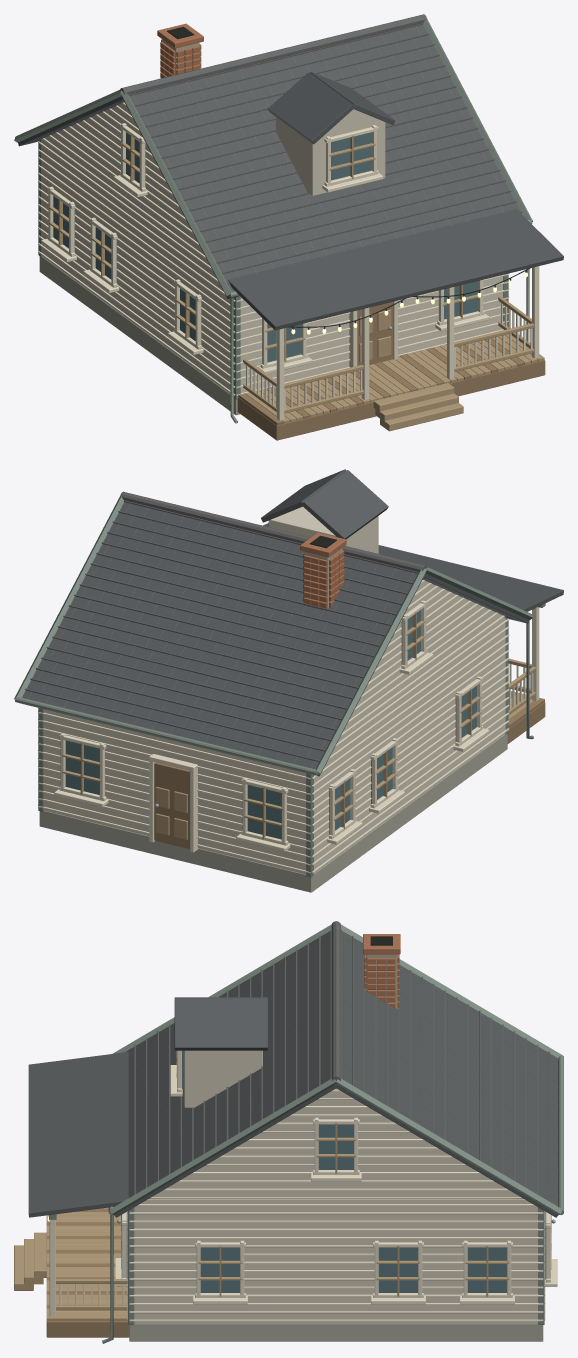
Rendered from SM_SlackerFriendsHouse_Blockout.fbx.
3 renders of one model, top to bottom at view 1: azimuth 30°, elevation 25°; view 2: azimuth 150°, elevation 25°; view 3: azimuth 270°, elevation 25°, orthographic. The views are drawn at different scales.
Visible parts, largest first — view 1: EXPORT_Main_Roof, EXPORT_House_MainBody, EXPORT_Porch_Roof, EXPORT_Attic_GableVolume, EXPORT_Porch_Base, EXPORT_House_Foundation.001, EXPORT_Dormer_Roof, EXPORT_Shingle_Seams, EXPORT_Ridge_Cap, EXPORT_Dormer_Walls, EXPORT_Gable_Fascia, EXPORT_Gable_Fascia.001 (+36 smaller); view 2: EXPORT_Main_Roof.001, EXPORT_House_MainBody, EXPORT_House_Foundation.001, EXPORT_Attic_GableVolume, EXPORT_Shingle_Seams.001, EXPORT_Porch_Roof, EXPORT_Dormer_Roof, EXPORT_Ridge_Cap, EXPORT_Eave_Gutter.001, EXPORT_Dormer_Walls, EXPORT_Entry_Door.001, EXPORT_Gable_Fascia.002 (+43 smaller); view 3: EXPORT_House_MainBody, EXPORT_Main_Roof.001, EXPORT_Main_Roof, EXPORT_Porch_Roof, EXPORT_Attic_GableVolume, EXPORT_House_Foundation.001, EXPORT_Dormer_Roof.001, EXPORT_Dormer_Walls, EXPORT_Shingle_Seams.001, EXPORT_Gable_Fascia.003, EXPORT_Gable_Fascia.001, EXPORT_Shingle_Seams (+37 smaller).
Part boxes in pixels (x1,y1,x2,y2): EXPORT_Main_Roof: (122, 25, 521, 298); EXPORT_House_MainBody: (41, 139, 503, 393); EXPORT_Porch_Roof: (228, 209, 563, 330); EXPORT_Attic_GableVolume: (45, 102, 204, 255); EXPORT_Porch_Base: (237, 360, 545, 440); EXPORT_House_Foundation.001: (39, 256, 240, 415); EXPORT_Dormer_Roof: (267, 72, 353, 144); EXPORT_Shingle_Seams: (133, 26, 508, 277); EXPORT_Ridge_Cap: (120, 14, 427, 96); EXPORT_Dormer_Walls: (275, 116, 385, 195); EXPORT_Gable_Fascia: (120, 91, 231, 297); EXPORT_Gable_Fascia.001: (423, 19, 532, 221); EXPORT_Main_Roof.001: (22, 502, 423, 776); EXPORT_House_MainBody: (44, 617, 505, 874); EXPORT_House_Foundation.001: (39, 734, 507, 892); EXPORT_Attic_GableVolume: (342, 581, 502, 732); EXPORT_Shingle_Seams.001: (28, 503, 413, 768); EXPORT_Porch_Roof: (263, 523, 563, 618); EXPORT_Dormer_Roof: (302, 470, 388, 539); EXPORT_Ridge_Cap: (120, 491, 427, 573); EXPORT_Eave_Gutter.001: (15, 697, 318, 775); EXPORT_Dormer_Walls: (268, 506, 378, 553); EXPORT_Entry_Door.001: (154, 762, 189, 848); EXPORT_Gable_Fascia.002: (316, 568, 426, 774); EXPORT_House_MainBody: (134, 1199, 538, 1323); EXPORT_Main_Roof.001: (336, 931, 557, 1217); EXPORT_Main_Roof: (114, 931, 336, 1217); EXPORT_Porch_Roof: (28, 1052, 128, 1217); EXPORT_Attic_GableVolume: (148, 1088, 524, 1199); EXPORT_House_Foundation.001: (129, 1323, 543, 1341); EXPORT_Dormer_Roof.001: (174, 998, 267, 1050); EXPORT_Dormer_Walls: (184, 1050, 262, 1107); EXPORT_Shingle_Seams.001: (342, 932, 558, 1204); EXPORT_Gable_Fascia.003: (336, 1078, 562, 1215); EXPORT_Gable_Fascia.001: (110, 1078, 336, 1214); EXPORT_Shingle_Seams: (126, 932, 330, 1193).
Size of the model in its own units: 901 by 1329 by 786.
